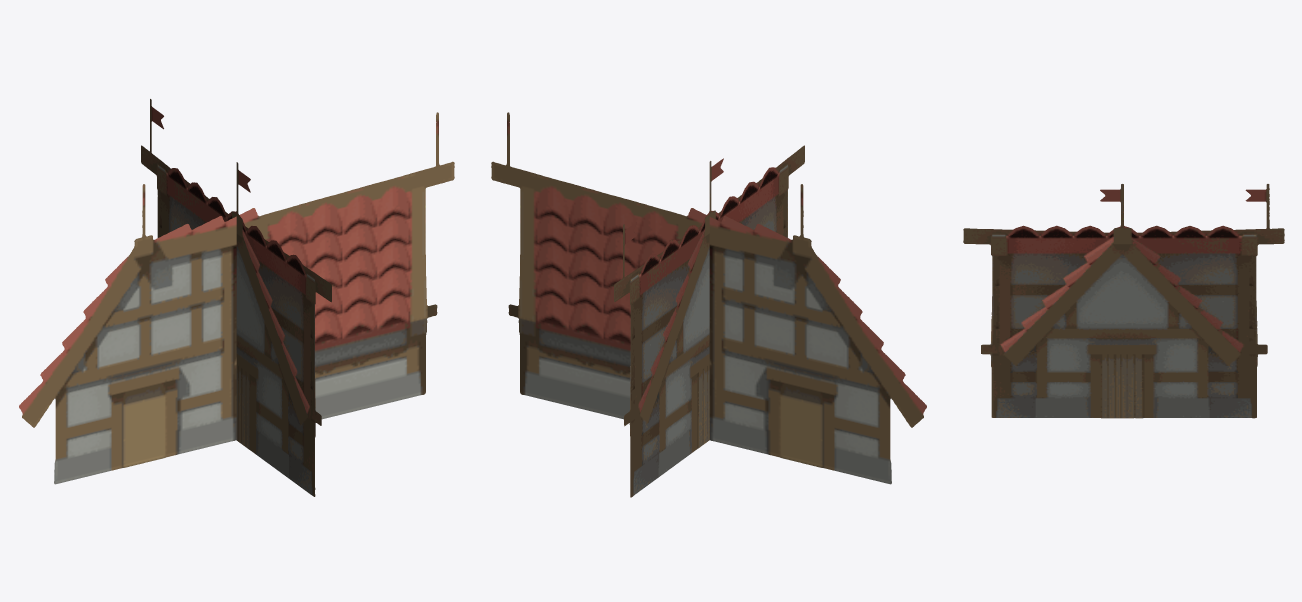
File: house_d_bb.glb
The picture shows the model from 3 angles, left to right: view 1: azimuth 30°, elevation 25°; view 2: azimuth 150°, elevation 25°; view 3: azimuth 270°, elevation 25°; orthographic projection. The views are drawn at different scales.
Visible parts, largest first — view 1: house_d_bb; view 2: house_d_bb; view 3: house_d_bb.
Boxes of the visible parts, <box> form: house_d_bb: <box>19,99,454,496</box>; house_d_bb: <box>491,112,926,497</box>; house_d_bb: <box>963,184,1284,418</box>.
Bounding box in the file's own units: 13.35 × 13.35 × 10.12.
Materials: 1 (1 with a texture image).
